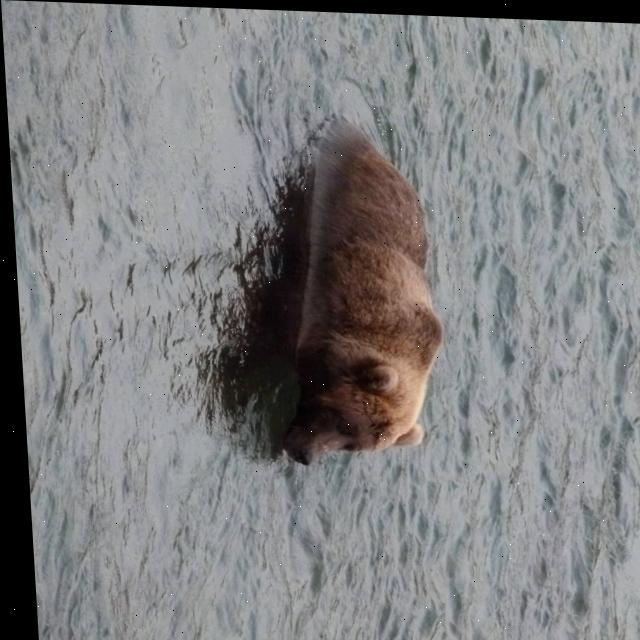bear face: (261, 123, 443, 470)
